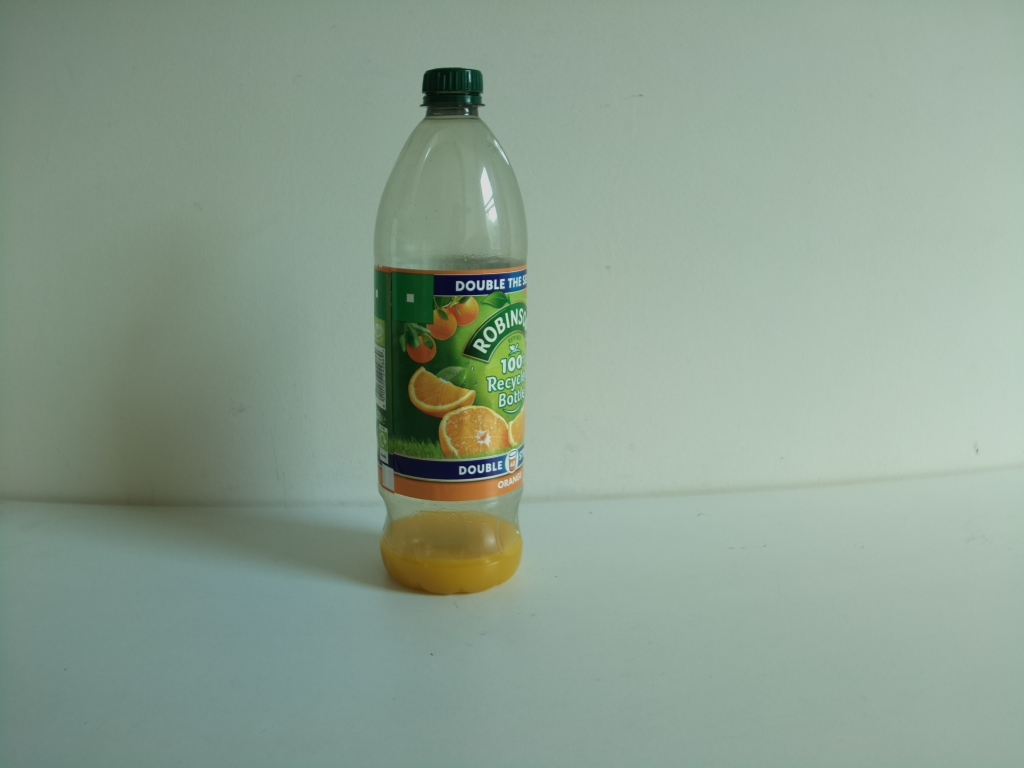juice: (366, 63, 538, 598)
